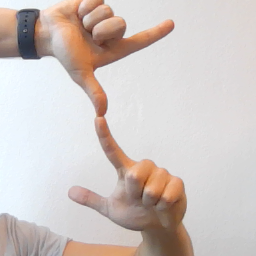Z: (43, 1, 196, 229)
